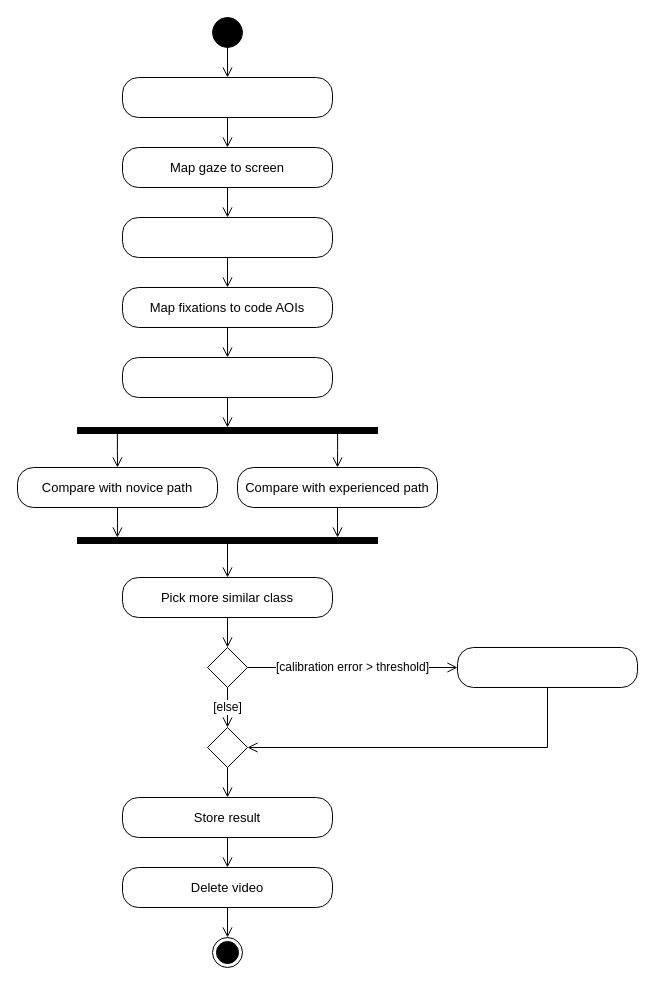
Some shapes in this 655 by 985 pixel diagram are drawn without their labels. The shapes that lost their labels are listed below. From the top down, each one's box as (x1, y1, x2, y2) in pixels, then its label:
(122, 76, 332, 118): Estimate gaze in each video frame
(122, 216, 332, 258): Detect fixations
(122, 356, 332, 398): Build scanpath
(456, 646, 638, 688): Mark result unreliable
